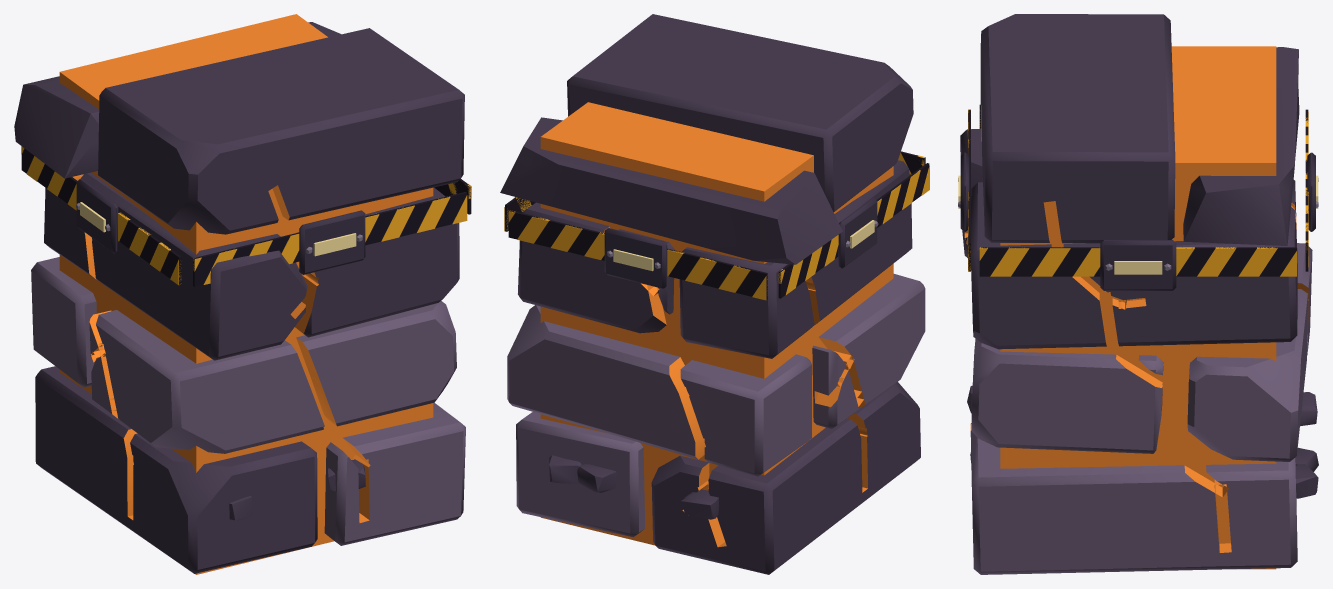
The model's file is breakable__lower.glb.
3 views of the same model, side by side, from view 1: azimuth 30°, elevation 25°; view 2: azimuth 150°, elevation 25°; view 3: azimuth 270°, elevation 25° (orthographic). The views are drawn at different scales.
Visible parts, largest first — view 1: breakable; view 2: breakable; view 3: breakable.
Part boxes in pixels (<box>): breakable: <box>14,14,471,574</box>; breakable: <box>500,14,929,574</box>; breakable: <box>958,14,1318,574</box>.
Size of the model in its own units: 1.06 by 1.39 by 1.05.
